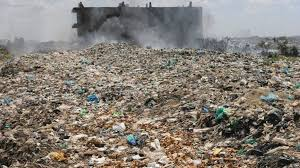rubble: (8, 48, 300, 166)
